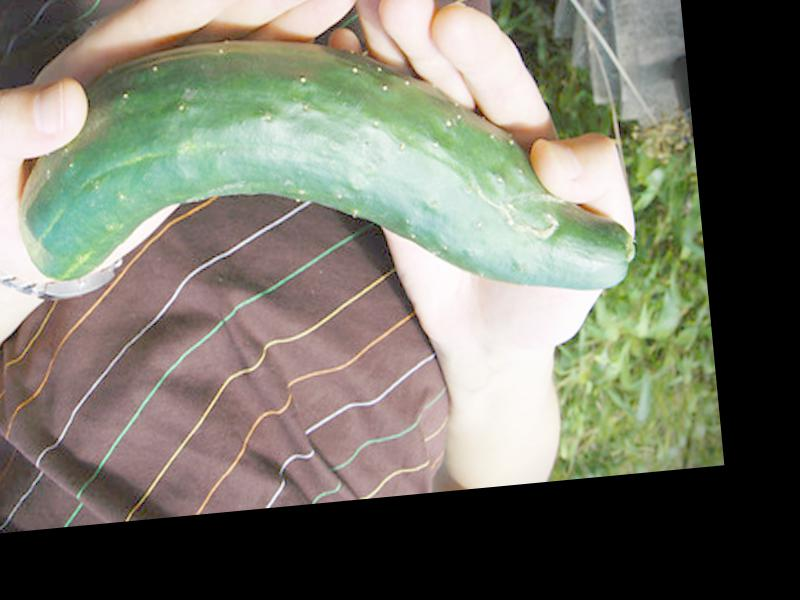Cucumber: (4, 5, 634, 343)
